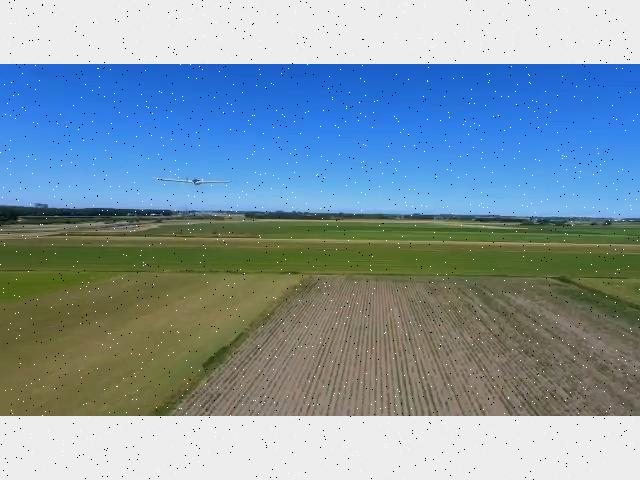Anti-Drone: (148, 158, 252, 208)
